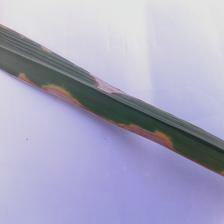2 BacterialBlight: (11, 64, 90, 117), (110, 108, 183, 154), (87, 60, 145, 103)
